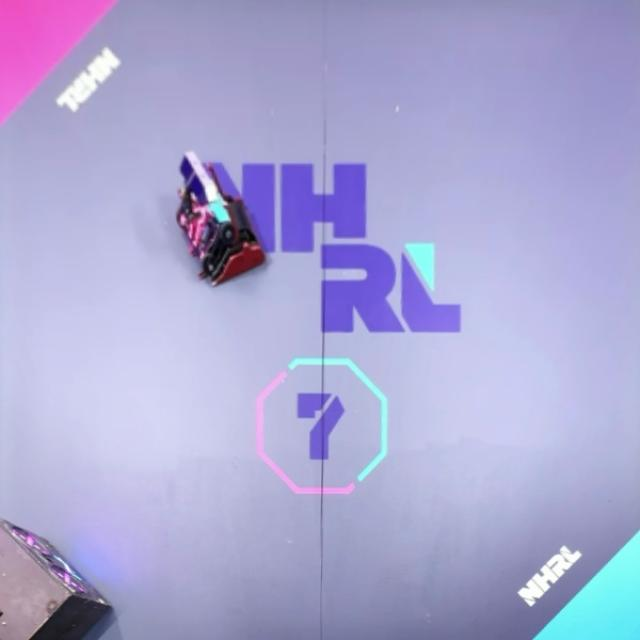housebot: (0, 517, 114, 640)
robot: (174, 149, 239, 279), (184, 194, 269, 288)
